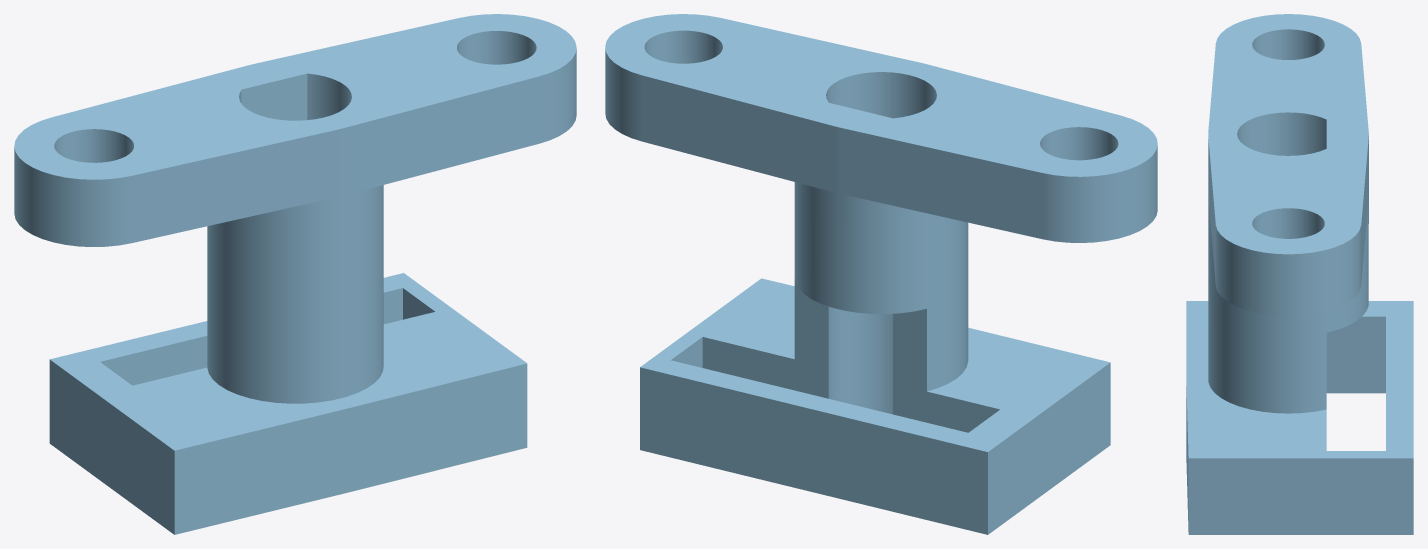
The model's file is middle_rotary.dae.
3 renders of one model, left to right at view 1: azimuth 30°, elevation 25°; view 2: azimuth 150°, elevation 25°; view 3: azimuth 270°, elevation 25°, orthographic. The views are drawn at different scales.
Parts seen in each view (by area): view 1: ID2; view 2: ID2; view 3: ID2.
Part boxes in pixels (box(x1,y1,x2,y2)): ID2: box(14, 14, 576, 534); ID2: box(605, 14, 1157, 534); ID2: box(1186, 14, 1413, 534).
Bounding box in the file's own units: 0.0336 × 0.0134 × 0.021.
